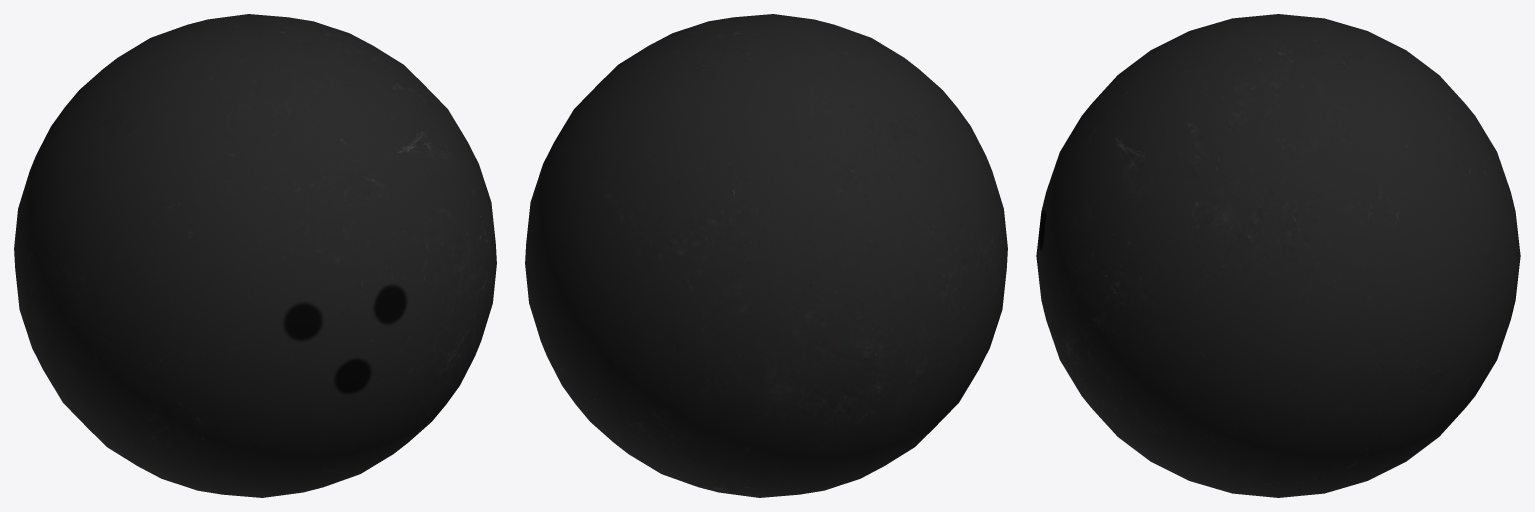
The model's file is Boliche.gltf.
3 renders of one model, left to right at view 1: azimuth 30°, elevation 25°; view 2: azimuth 150°, elevation 25°; view 3: azimuth 270°, elevation 25°, orthographic.
Visible parts, largest first — view 1: Cube; view 2: Cube; view 3: Cube.
Boxes of the visible parts, x1,y1,x2,y2 form: Cube: [14, 14, 496, 497]; Cube: [525, 14, 1007, 497]; Cube: [1036, 14, 1520, 497].
Bounding box in the file's own units: 171 × 171 × 171.
Materials: 1 (1 with a texture image).
